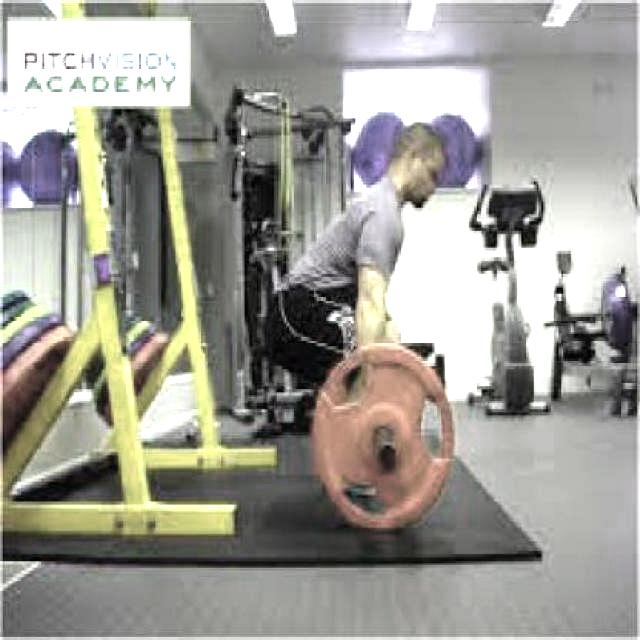barbell: (306, 335, 464, 540)
